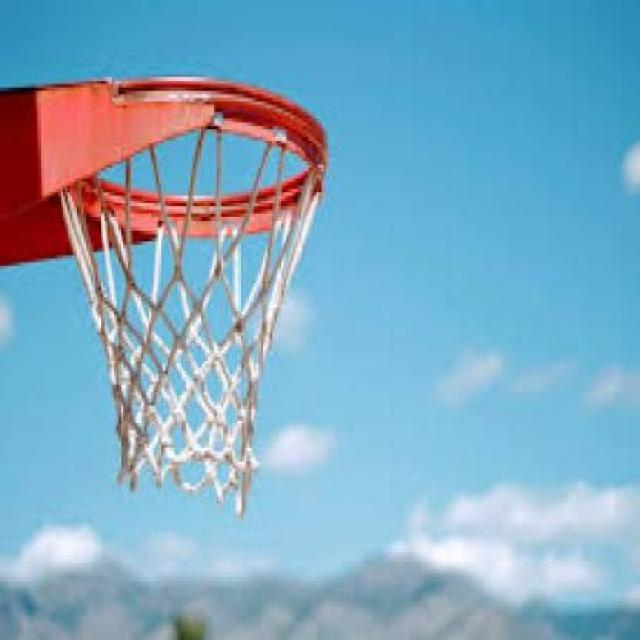rim: (44, 76, 328, 500)
